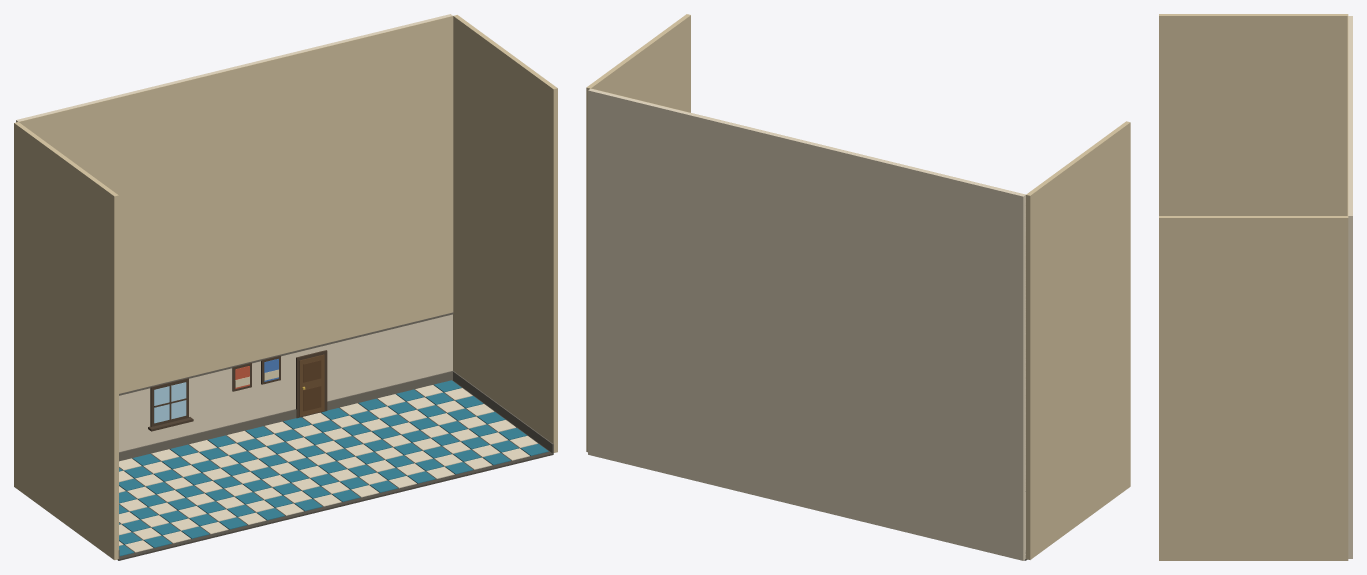
File: room_oriente_stone.glb
3 views of the same model, side by side, from view 1: azimuth 30°, elevation 25°; view 2: azimuth 150°, elevation 25°; view 3: azimuth 270°, elevation 25° (orthographic). The views are drawn at different scales.
Visible parts, largest first — view 1: room; view 2: room; view 3: room.
Boxes of the visible parts, x1,y1,x2,y2 form: room: [14, 14, 557, 560]; room: [586, 14, 1130, 560]; room: [1159, 14, 1352, 560].
Size of the model in its own units: 30.6 by 24.11 by 12.3.
